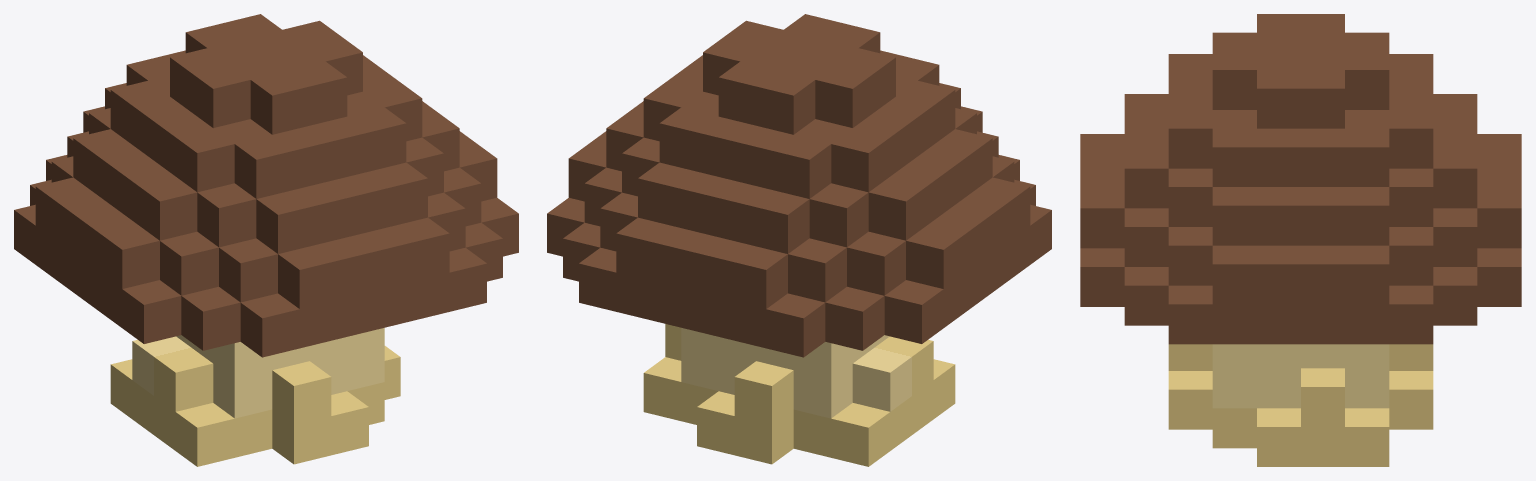
Rendered from mushroombrown.fbx.
3 renders of one model, left to right at view 1: azimuth 30°, elevation 25°; view 2: azimuth 150°, elevation 25°; view 3: azimuth 270°, elevation 25°, orthographic.
Parts seen in each view (by area): view 1: mushroombrown; view 2: mushroombrown; view 3: mushroombrown.
Part boxes in pixels (x1=…): mushroombrown: x1=14, y1=14, x2=518, y2=466; mushroombrown: x1=547, y1=14, x2=1051, y2=466; mushroombrown: x1=1080, y1=14, x2=1521, y2=466.
Bounding box in the file's own units: 10 × 9 × 10.
1 material, 1 textured.
